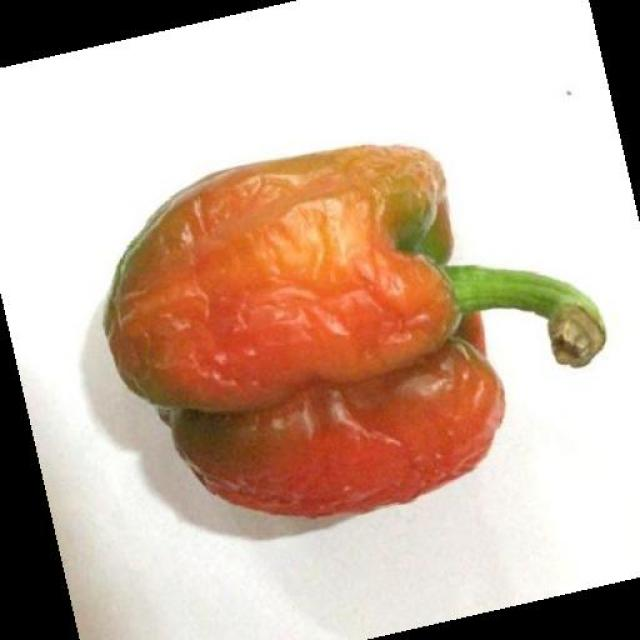Stale_Capsicum: (101, 116, 512, 520)
